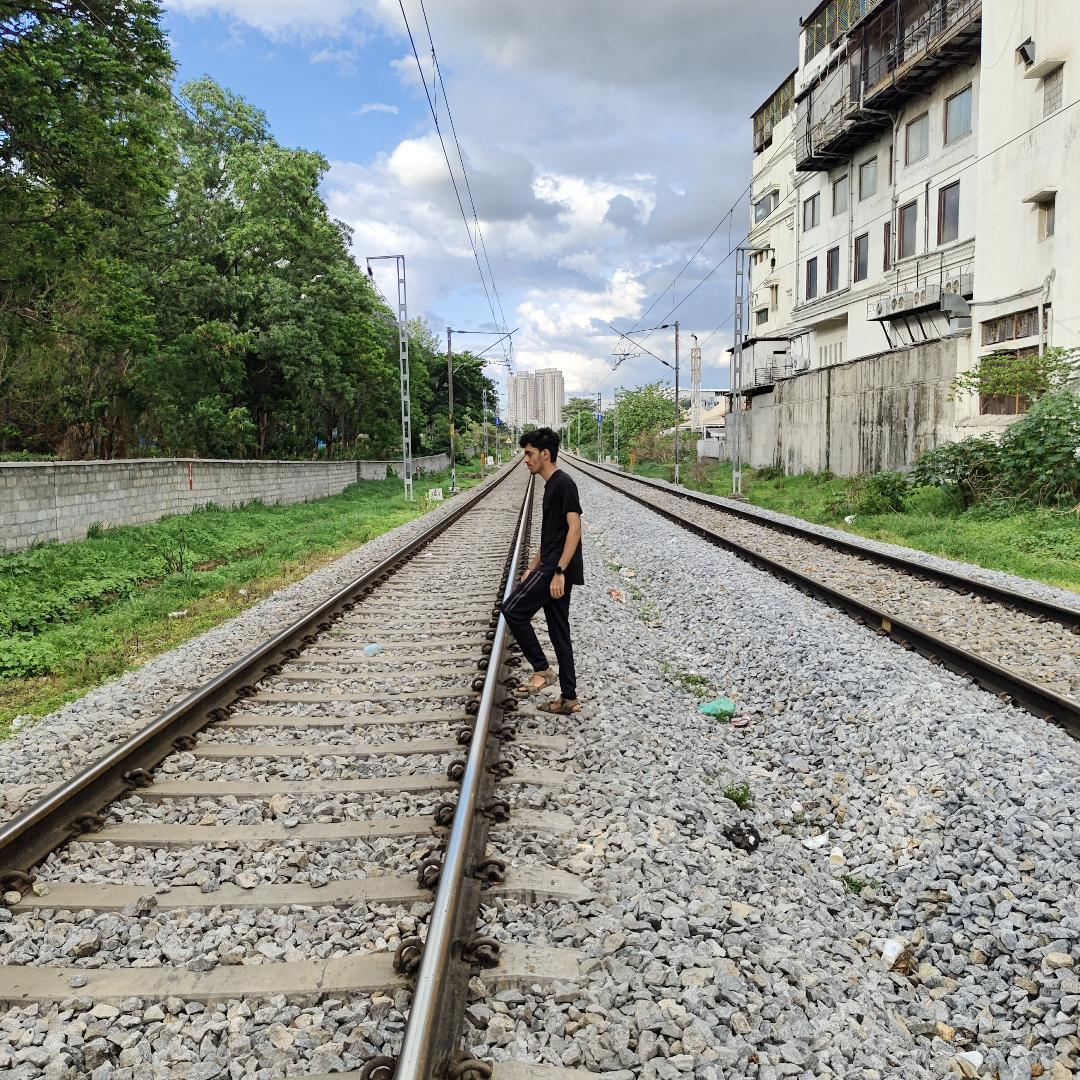standing: (491, 419, 600, 726)
